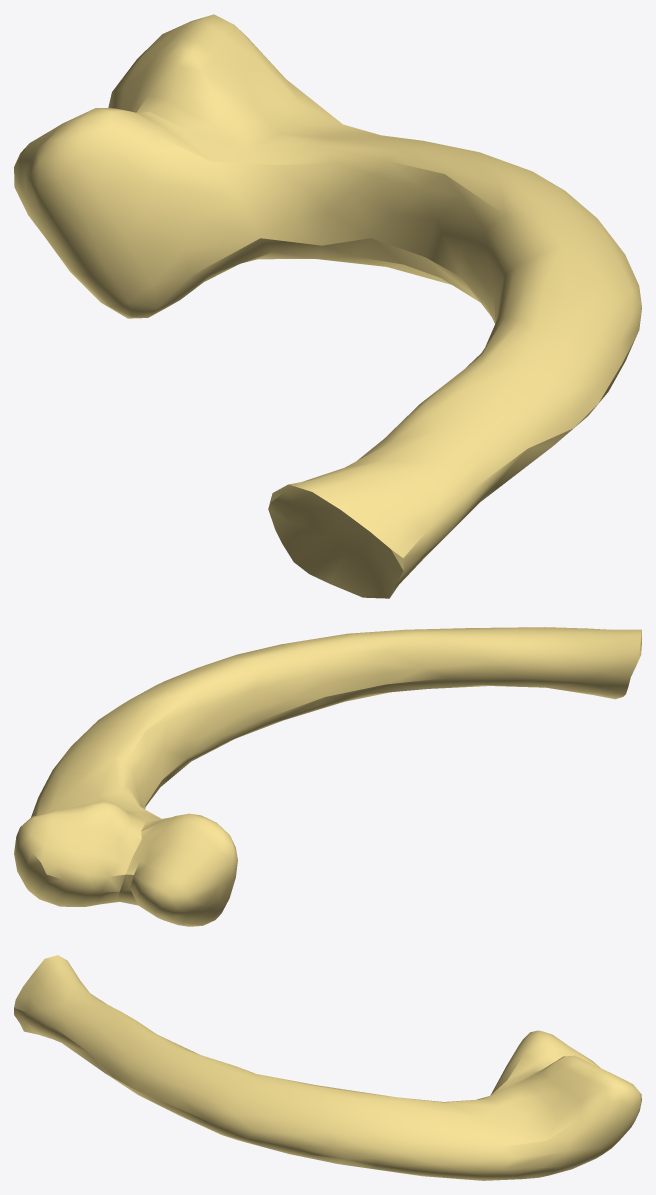
File: fma67936_fj7502m.glb
3 renders of one model, top to bottom at view 1: azimuth 30°, elevation 25°; view 2: azimuth 150°, elevation 25°; view 3: azimuth 270°, elevation 25°, orthographic. The views are drawn at different scales.
Parts seen in each view (by area): view 1: FMA67936_FJ7502M; view 2: FMA67936_FJ7502M; view 3: FMA67936_FJ7502M.
Boxes of the visible parts, x1,y1,x2,y2 form: FMA67936_FJ7502M: [14, 14, 641, 598]; FMA67936_FJ7502M: [14, 627, 641, 926]; FMA67936_FJ7502M: [14, 955, 641, 1180].
Size of the model in its own units: 0.02 by 0.00675 by 0.0341.
